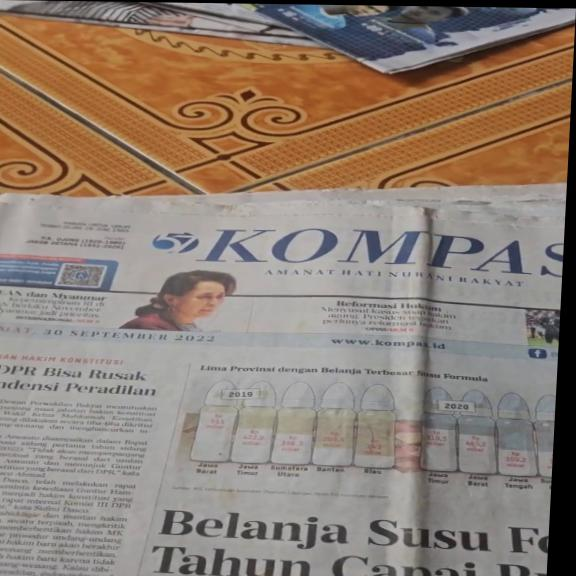Kertas: (0, 177, 558, 576), (0, 336, 186, 576)
